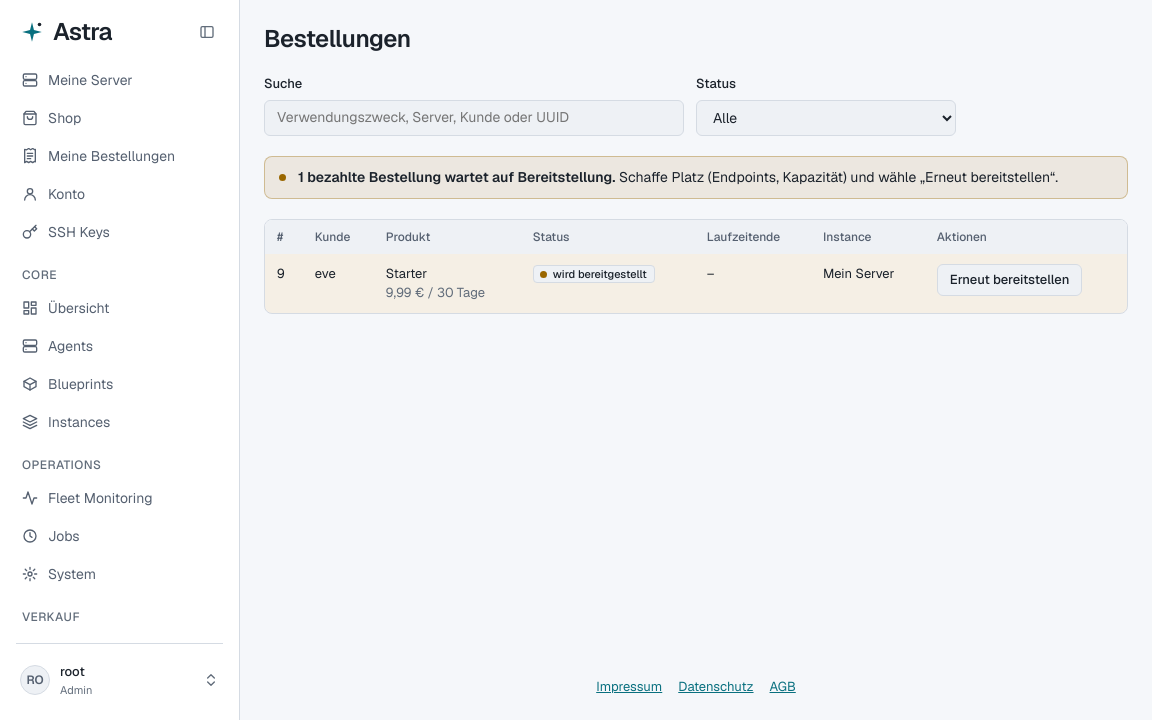
Test: AdminOrdersPage › zeigt den Fehlertext des Backends bei fehlender Kapazitaet
Click the button "Erneut bereitstellen" at coordinates (1010, 280), box [937,264,1082,296]
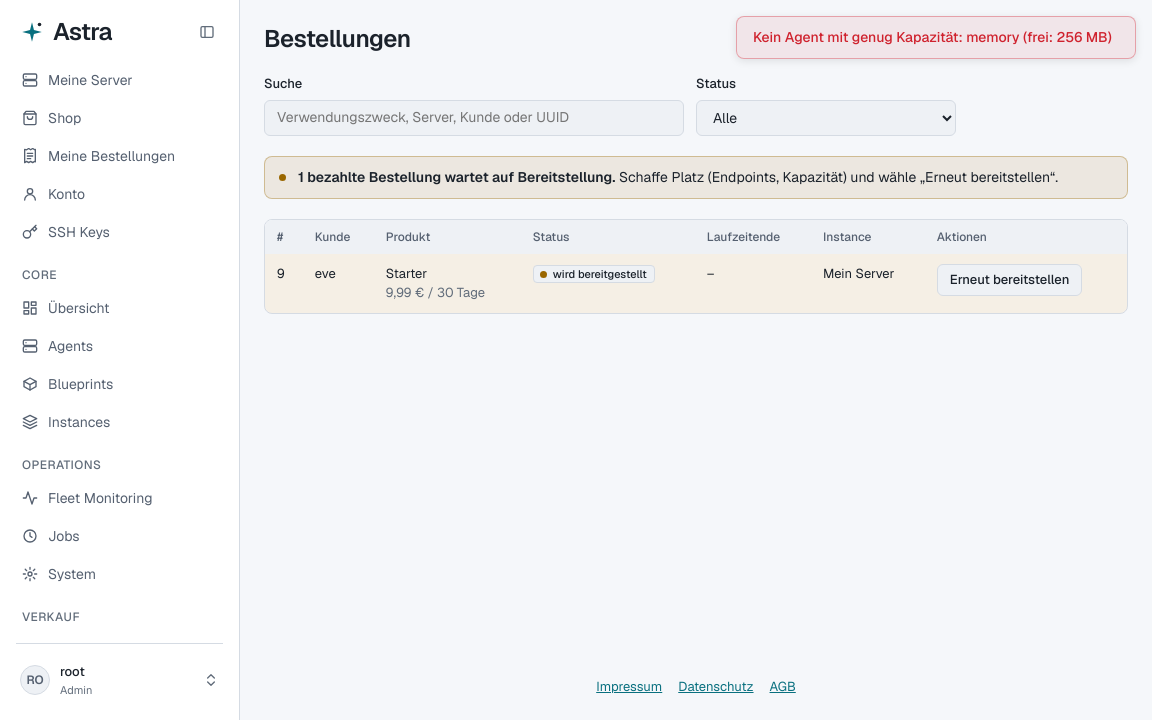
Expected: the text "Kein Agent mit genug Kapazität: memory (frei: 256 MB)" is shown, [736,16,1136,59]
